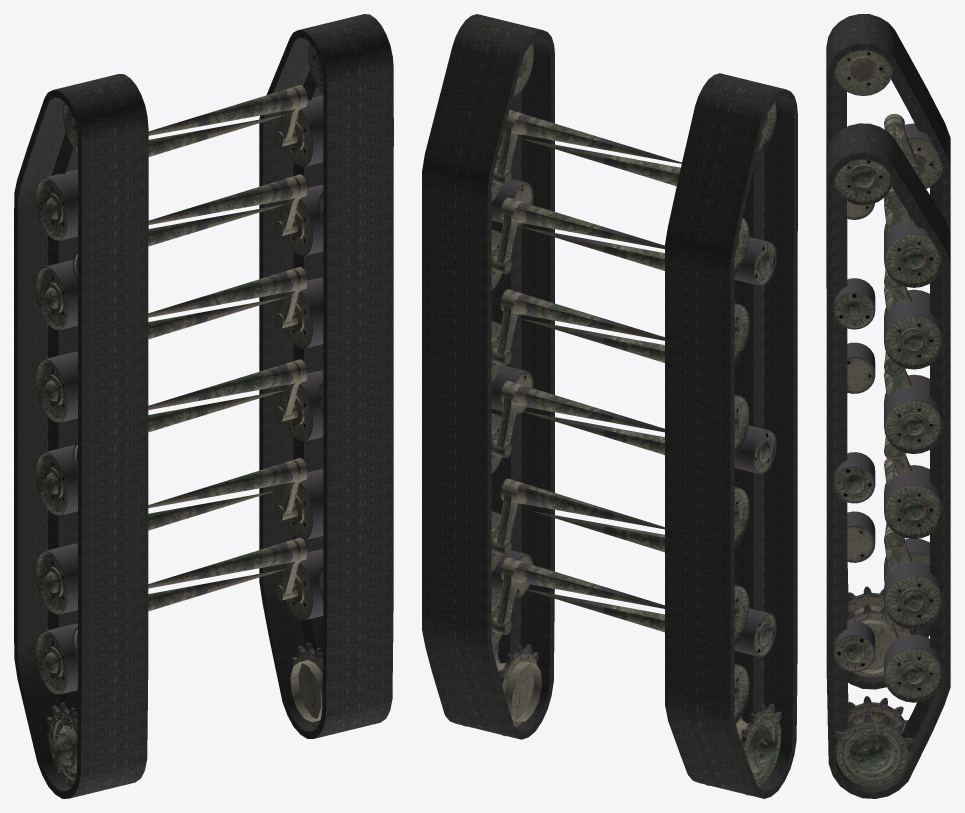
The model's file is Chassis.glb.
3 views of the same model, side by side, from view 1: azimuth 30°, elevation 25°; view 2: azimuth 150°, elevation 25°; view 3: azimuth 270°, elevation 25° (orthographic). The views are drawn at different scales.
Visible parts, largest first — view 1: set_0_group_0, set_1_group_0, set_3_group_0, set_2_group_0; view 2: set_0_group_0, set_1_group_0, set_3_group_0, set_2_group_0; view 3: set_3_group_0, set_1_group_0, set_2_group_0, set_0_group_0.
Boxes of the visible parts, <box> form: set_0_group_0: <box>14,74,148,798</box>; set_1_group_0: <box>259,14,393,738</box>; set_3_group_0: <box>148,43,379,733</box>; set_2_group_0: <box>35,102,287,793</box>; set_0_group_0: <box>665,73,797,798</box>; set_1_group_0: <box>422,14,554,739</box>; set_3_group_0: <box>455,43,681,736</box>; set_2_group_0: <box>520,102,781,795</box>; set_3_group_0: <box>834,116,943,787</box>; set_1_group_0: <box>826,123,950,798</box>; set_2_group_0: <box>834,50,943,677</box>; set_0_group_0: <box>826,14,950,689</box>.
Size of the model in its own units: 3.06 by 6.61 by 1.15.
4 materials, 4 textured.
